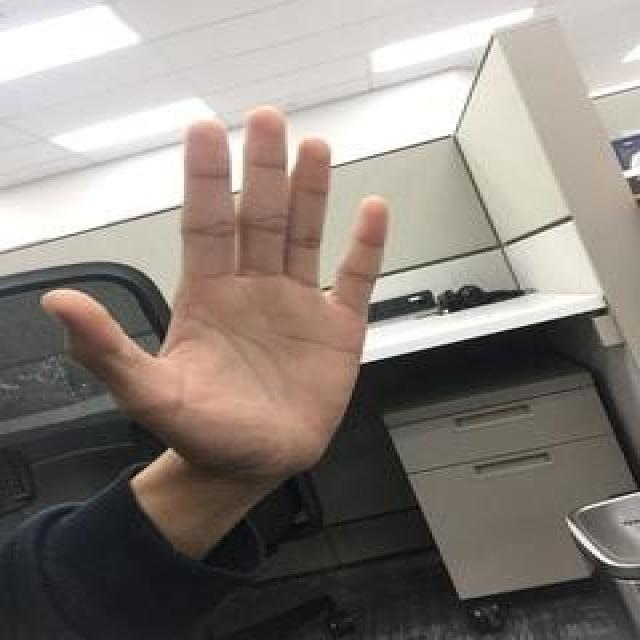no-gloves: (34, 108, 402, 468)
